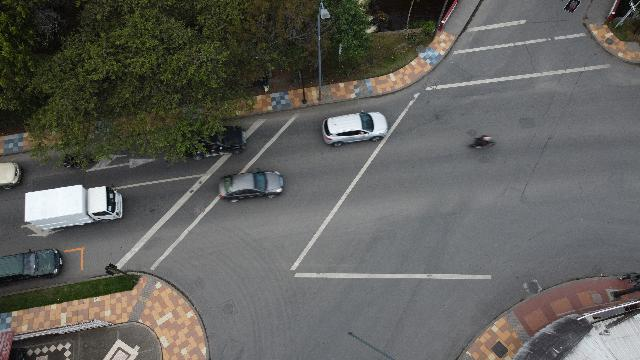Vehiculo: (322, 111, 388, 147), (0, 248, 62, 284), (218, 170, 284, 202), (184, 126, 246, 160), (88, 186, 122, 221), (1, 161, 22, 189)
